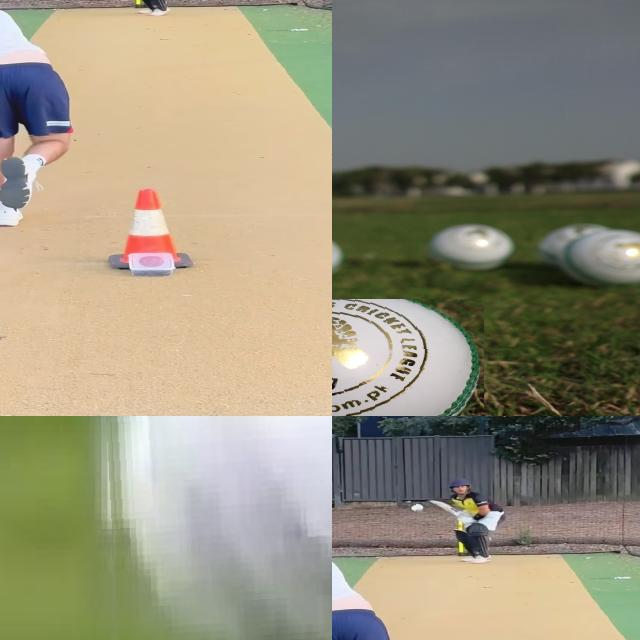Cricket ball: (95, 416, 332, 640), (332, 299, 484, 416), (425, 219, 518, 273), (566, 231, 640, 291), (408, 502, 426, 515)
